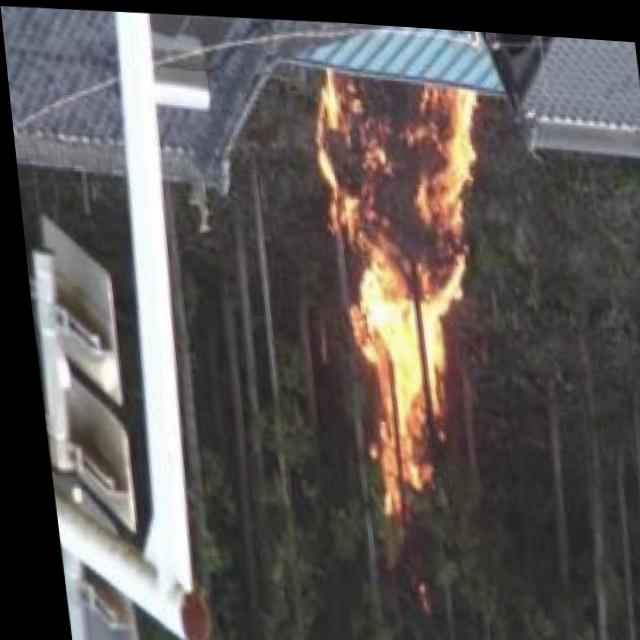Fire: (310, 65, 510, 495)
